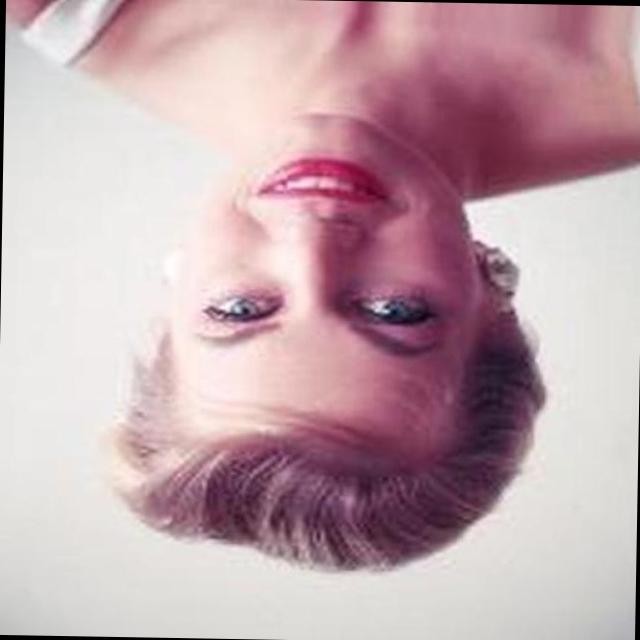bareface: (82, 126, 544, 572)
